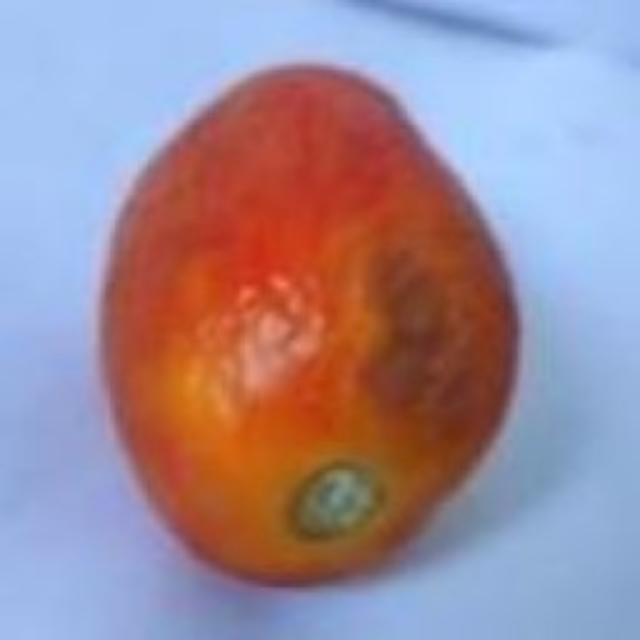defect: (94, 58, 527, 588)
